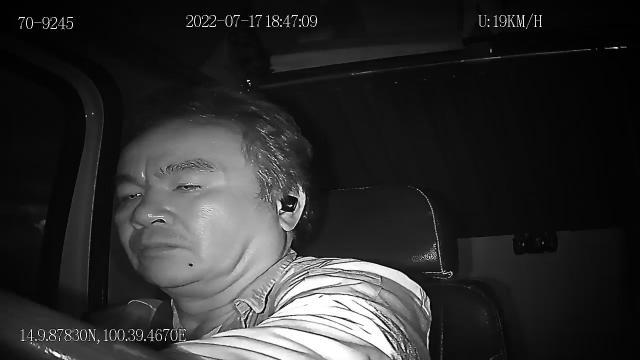SafeDriving: (166, 170, 212, 198), (113, 179, 150, 208)
Seatbelt: (147, 298, 177, 334)
